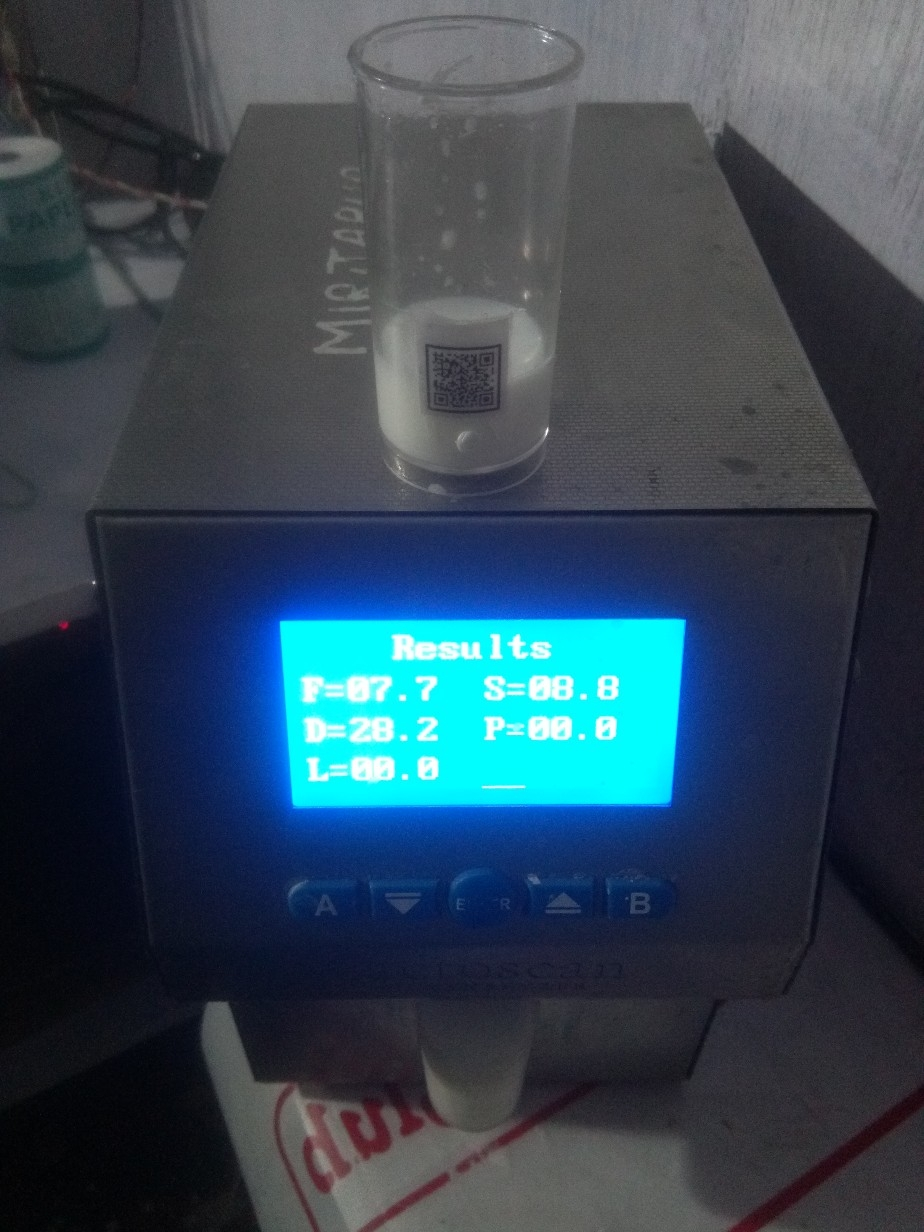lcd: (263, 604, 703, 829)
qr: (414, 323, 529, 431)
